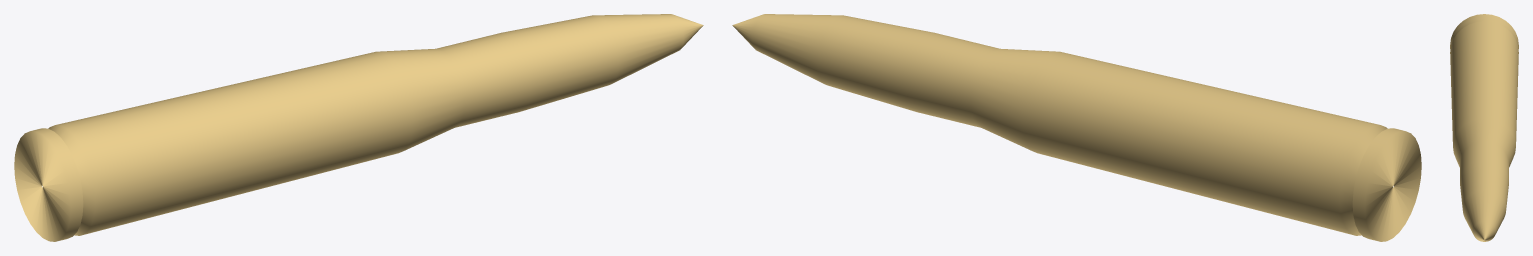
Rendered from bullet_792x57.glb.
The picture shows the model from 3 angles, left to right: view 1: azimuth 30°, elevation 25°; view 2: azimuth 150°, elevation 25°; view 3: azimuth 270°, elevation 25°; orthographic projection. The views are drawn at different scales.
Parts seen in each view (by area): view 1: bullet_792x57; view 2: bullet_792x57; view 3: bullet_792x57.
Boxes of the visible parts, x1,y1,x2,y2 form: bullet_792x57: (14,14,703,241); bullet_792x57: (732,14,1421,241); bullet_792x57: (1450,14,1518,241).
Bounding box in the file's own units: 0.0806 × 0.012 × 0.012.
